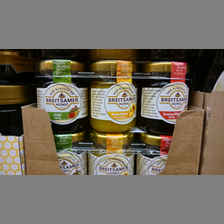honey: (36, 58, 89, 131), (141, 61, 192, 133), (91, 60, 139, 131)
